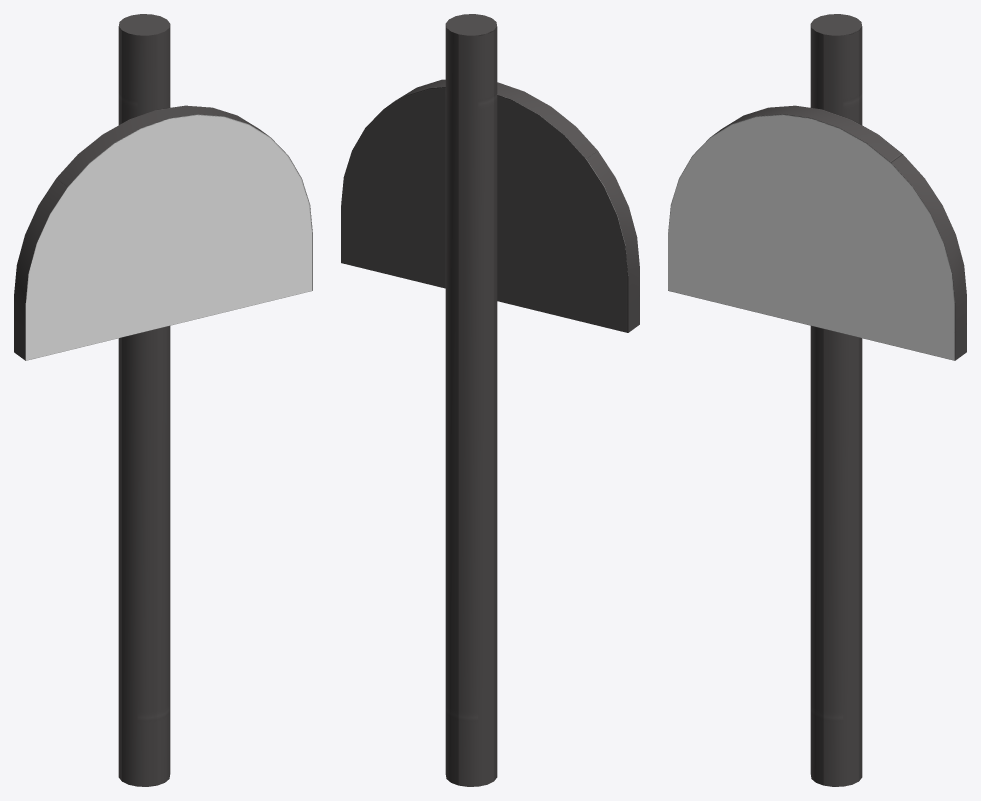
Rendered from signalra10a.obj.
3 renders of one model, left to right at view 1: azimuth 30°, elevation 25°; view 2: azimuth 150°, elevation 25°; view 3: azimuth 330°, elevation 25°, orthographic.
Visible parts, largest first — view 1: Cylinder.001, Cube_Cube.003; view 2: Cylinder.001, Cube_Cube.003; view 3: Cylinder.001, Cube_Cube.003.
Part boxes in pixels (bbox=[...]): Cylinder.001: bbox=[14, 105, 312, 360]; Cube_Cube.003: bbox=[118, 14, 170, 786]; Cylinder.001: bbox=[341, 79, 639, 332]; Cube_Cube.003: bbox=[445, 14, 497, 786]; Cylinder.001: bbox=[668, 105, 966, 360]; Cube_Cube.003: bbox=[810, 14, 862, 786].
Bounding box in the file's own units: 0.4 × 1 × 0.0912.
Materials: 1 (1 with a texture image).
